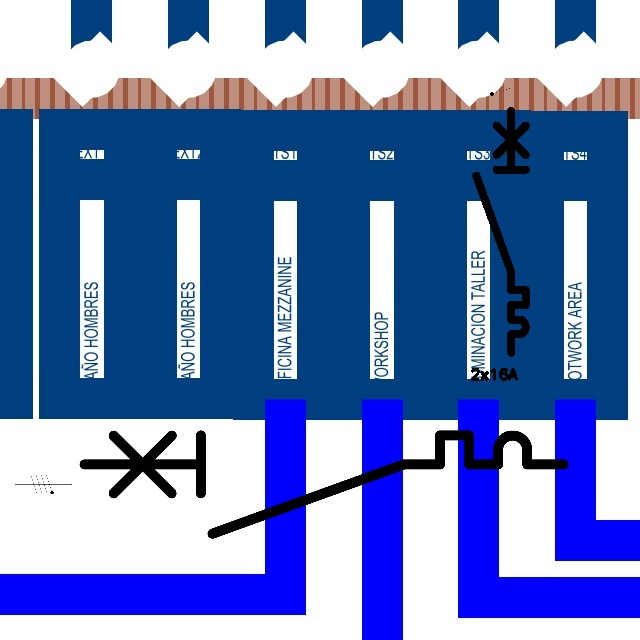interruptor_termomagnetico: (72, 423, 576, 546), (470, 104, 532, 358)
